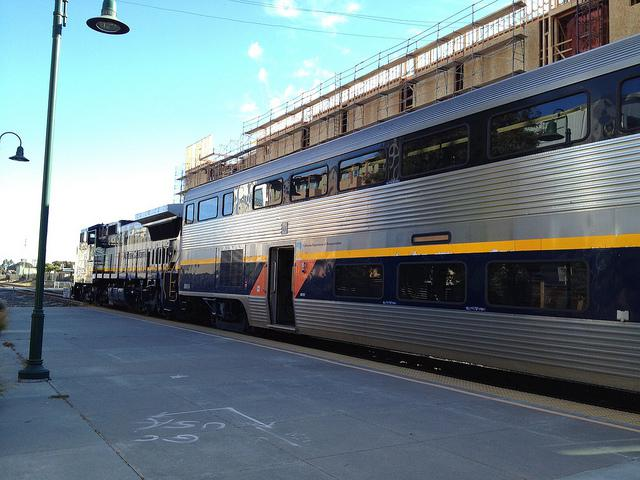Train: (67, 39, 640, 405)
